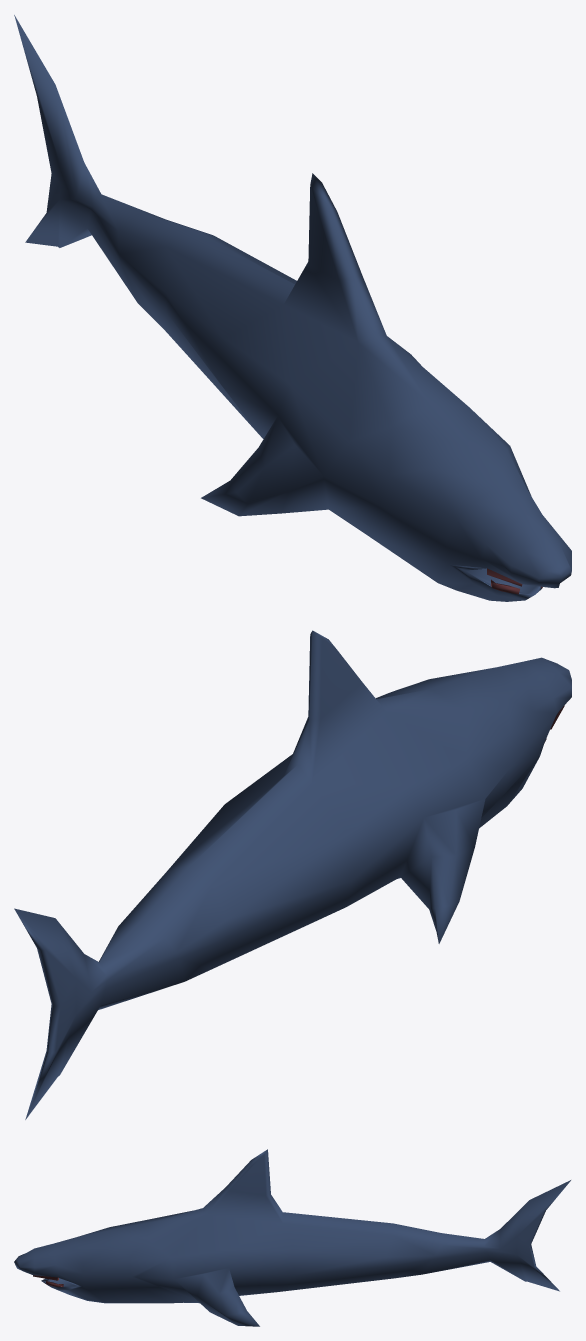
The model's file is Shark.fbx.
The picture shows the model from 3 angles, top to bottom: view 1: azimuth 30°, elevation 25°; view 2: azimuth 150°, elevation 25°; view 3: azimuth 270°, elevation 25°; orthographic projection. The views are drawn at different scales.
Visible parts, largest first — view 1: pCube2; view 2: pCube2; view 3: pCube2.
Boxes of the visible parts, box(x1,y1,x2,y2) form: pCube2: box(14, 15, 571, 601); pCube2: box(14, 630, 571, 1119); pCube2: box(14, 1149, 570, 1326).
Bounding box in the file's own units: 3.67 × 4.45 × 14.6.
